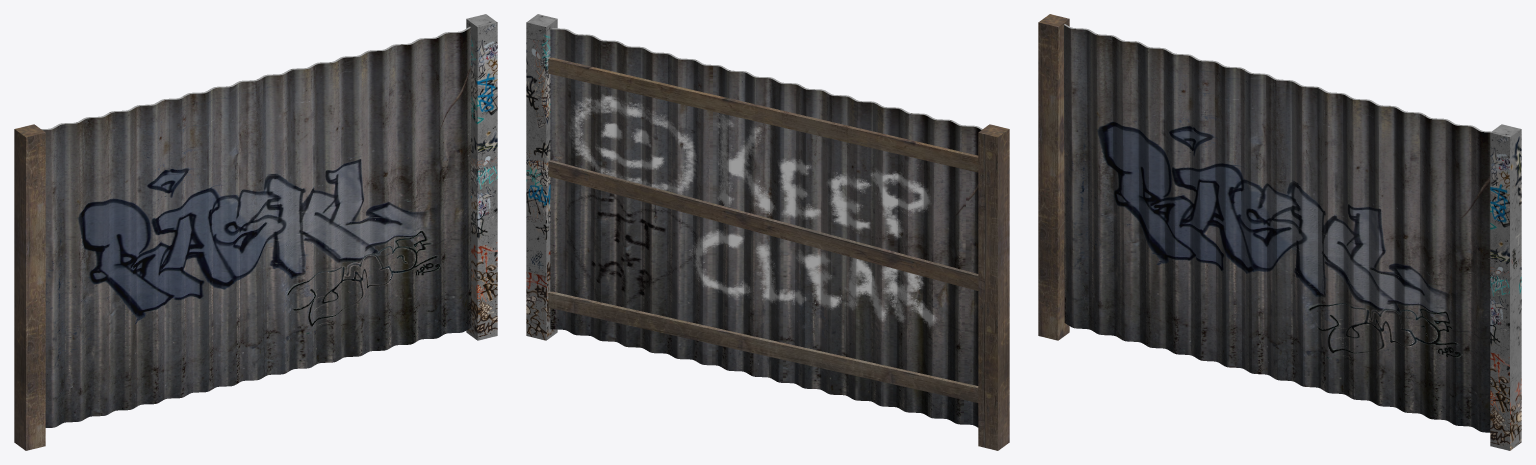
File: Fence_7.glb
3 views of the same model, side by side, from view 1: azimuth 30°, elevation 25°; view 2: azimuth 150°, elevation 25°; view 3: azimuth 330°, elevation 25° (orthographic).
Visible parts, largest first — view 1: Example_Fence_sections__not_for_use__T_concrete_0.013, Example_Fence_sections__not_for_use__T_wood_0.721, Example_Fence_sections__not_for_use__T_graffiti6_0.028, Example_Fence_sections__not_for_use__T_graffiti6_0.022, Example_Fence_sections__not_for_use__T_graffiti6_0.016, Example_Fence_sections__not_for_use__T_graffiti6_0.018, Example_Fence_sections__not_for_use__T_graffiti6_0.024, Example_Fence_sections__not_for_use__T_graffiti6_0.010, Example_Fence_sections__not_for_use__T_graffiti6_0.012, Example_Fence_sections__not_for_use__T_graffiti6_0.014, Example_Fence_sections__not_for_use__T_graffiti6_0.006, Example_Fence_sections__not_for_use__T_graffiti6_0.020 (+27 smaller); view 2: Example_Fence_sections__not_for_use__T_wood_0.731, Example_Fence_sections__not_for_use__T_wood_0.726, Example_Fence_sections__not_for_use__T_wood_0.736, Example_Fence_sections__not_for_use__T_concrete_0.014, Example_Fence_sections__not_for_use__T_wood_0.720, Example_Fence_sections__not_for_use__T_graffiti6_0.066, Example_Fence_sections__not_for_use__T_graffiti6_0.062, Example_Fence_sections__not_for_use__T_graffiti6_0.060, Example_Fence_sections__not_for_use__T_graffiti6_0.056, Example_Fence_sections__not_for_use__T_graffiti6_0.068, Example_Fence_sections__not_for_use__T_graffiti6_0.064, Example_Fence_sections__not_for_use__T_graffiti6_0.046 (+33 smaller); view 3: Example_Fence_sections__not_for_use__T_wood_0.721, Example_Fence_sections__not_for_use__T_concrete_0.013, Example_Fence_sections__not_for_use__T_graffiti6_0.033, Example_Fence_sections__not_for_use__T_graffiti6_0.029, Example_Fence_sections__not_for_use__T_graffiti6_0.017, Example_Fence_sections__not_for_use__T_graffiti6_0.023, Example_Fence_sections__not_for_use__T_graffiti6_0.005, Example_Fence_sections__not_for_use__T_graffiti6_0.011, Example_Fence_sections__not_for_use__T_graffiti6_0.025, Example_Fence_sections__not_for_use__T_graffiti6_0.013, Example_Fence_sections__not_for_use__T_graffiti6_0.007, Example_Fence_sections__not_for_use__T_graffiti6_0.002 (+27 smaller).
Part boxes in pixels (left/top/right/bottom): Example_Fence_sections__not_for_use__T_concrete_0.013: left=477, top=22, right=497, bottom=340; Example_Fence_sections__not_for_use__T_wood_0.721: left=26, top=132, right=45, bottom=450; Example_Fence_sections__not_for_use__T_graffiti6_0.028: left=369, top=50, right=385, bottom=351; Example_Fence_sections__not_for_use__T_graffiti6_0.022: left=292, top=69, right=309, bottom=368; Example_Fence_sections__not_for_use__T_graffiti6_0.016: left=215, top=87, right=232, bottom=386; Example_Fence_sections__not_for_use__T_graffiti6_0.018: left=241, top=81, right=258, bottom=380; Example_Fence_sections__not_for_use__T_graffiti6_0.024: left=318, top=62, right=334, bottom=363; Example_Fence_sections__not_for_use__T_graffiti6_0.010: left=138, top=105, right=156, bottom=404; Example_Fence_sections__not_for_use__T_graffiti6_0.012: left=164, top=99, right=181, bottom=398; Example_Fence_sections__not_for_use__T_graffiti6_0.014: left=190, top=93, right=207, bottom=392; Example_Fence_sections__not_for_use__T_graffiti6_0.006: left=87, top=117, right=105, bottom=416; Example_Fence_sections__not_for_use__T_graffiti6_0.020: left=267, top=75, right=283, bottom=374; Example_Fence_sections__not_for_use__T_wood_0.731: left=548, top=293, right=978, bottom=402; Example_Fence_sections__not_for_use__T_wood_0.726: left=548, top=59, right=978, bottom=172; Example_Fence_sections__not_for_use__T_wood_0.736: left=548, top=161, right=978, bottom=290; Example_Fence_sections__not_for_use__T_concrete_0.014: left=526, top=22, right=546, bottom=340; Example_Fence_sections__not_for_use__T_wood_0.720: left=978, top=132, right=997, bottom=450; Example_Fence_sections__not_for_use__T_graffiti6_0.066: left=626, top=47, right=642, bottom=347; Example_Fence_sections__not_for_use__T_graffiti6_0.062: left=677, top=59, right=693, bottom=359; Example_Fence_sections__not_for_use__T_graffiti6_0.060: left=702, top=65, right=719, bottom=365; Example_Fence_sections__not_for_use__T_graffiti6_0.056: left=753, top=77, right=770, bottom=377; Example_Fence_sections__not_for_use__T_graffiti6_0.068: left=600, top=41, right=616, bottom=341; Example_Fence_sections__not_for_use__T_graffiti6_0.064: left=651, top=53, right=667, bottom=353; Example_Fence_sections__not_for_use__T_graffiti6_0.046: left=881, top=108, right=898, bottom=407; Example_Fence_sections__not_for_use__T_wood_0.721: left=1038, top=22, right=1058, bottom=340; Example_Fence_sections__not_for_use__T_concrete_0.013: left=1490, top=132, right=1509, bottom=450; Example_Fence_sections__not_for_use__T_graffiti6_0.033: left=1455, top=125, right=1471, bottom=426; Example_Fence_sections__not_for_use__T_graffiti6_0.029: left=1404, top=112, right=1420, bottom=413; Example_Fence_sections__not_for_use__T_graffiti6_0.017: left=1250, top=74, right=1267, bottom=374; Example_Fence_sections__not_for_use__T_graffiti6_0.023: left=1327, top=93, right=1343, bottom=394; Example_Fence_sections__not_for_use__T_graffiti6_0.005: left=1096, top=35, right=1114, bottom=335; Example_Fence_sections__not_for_use__T_graffiti6_0.011: left=1173, top=54, right=1191, bottom=355; Example_Fence_sections__not_for_use__T_graffiti6_0.025: left=1353, top=99, right=1369, bottom=400; Example_Fence_sections__not_for_use__T_graffiti6_0.013: left=1199, top=61, right=1216, bottom=361; Example_Fence_sections__not_for_use__T_graffiti6_0.007: left=1122, top=41, right=1140, bottom=342; Example_Fence_sections__not_for_use__T_graffiti6_0.002: left=1071, top=28, right=1089, bottom=329.
Size of the model in its own units: 4.18 by 2.65 by 0.1756.
3 materials, 3 textured.
